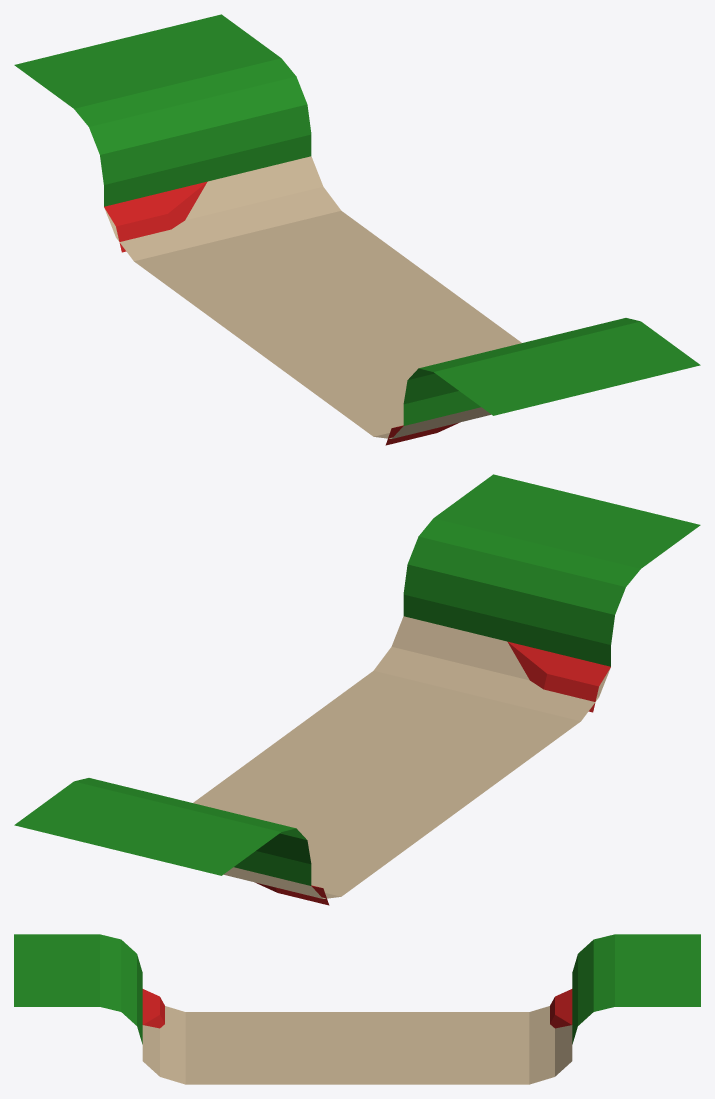
The model's file is Track_Striped_End_Straight_Double.obj.
3 renders of one model, top to bottom at view 1: azimuth 30°, elevation 25°; view 2: azimuth 150°, elevation 25°; view 3: azimuth 270°, elevation 25°, orthographic. The views are drawn at different scales.
Visible parts, largest first — view 1: Dirt, Grass, object2; view 2: Dirt, Grass, object1; view 3: Dirt, Grass, object1, object2.
Boxes of the visible parts, x1=… form: Dirt: x1=104, y1=156, x2=521, y2=438; Grass: x1=14, y1=14, x2=700, y2=425; object2: x1=104, y1=181, x2=207, y2=252; Dirt: x1=193, y1=616, x2=610, y2=898; Grass: x1=14, y1=474, x2=700, y2=885; object1: x1=507, y1=641, x2=610, y2=712; Dirt: x1=142, y1=1006, x2=572, y2=1084; Grass: x1=14, y1=934, x2=700, y2=1044; object1: x1=142, y1=989, x2=164, y2=1028; object2: x1=550, y1=989, x2=572, y2=1028.
Size of the model in its own units: 1 by 0.5 by 4.
